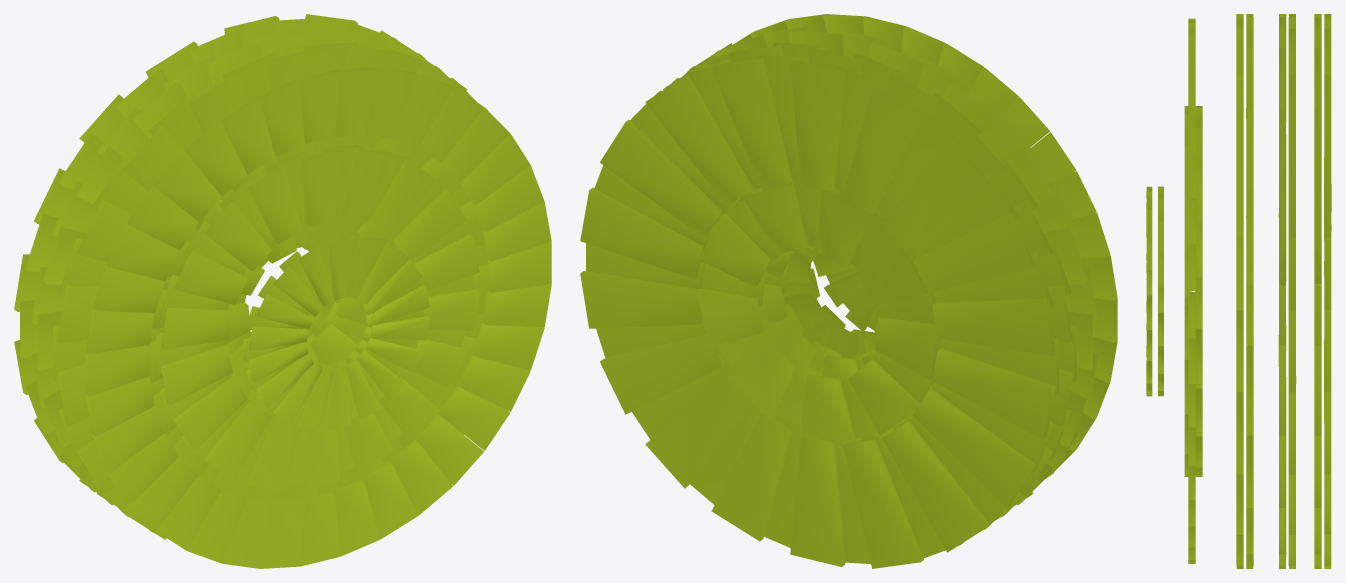
File: CSCMinus3D_V1.glb
3 renders of one model, left to right at view 1: azimuth 30°, elevation 25°; view 2: azimuth 150°, elevation 25°; view 3: azimuth 270°, elevation 25°, orthographic.
Visible parts, largest first — view 1: CSCMinus3D_V1; view 2: CSCMinus3D_V1; view 3: CSCMinus3D_V1.
Boxes of the visible parts, left/top/right/bottom form: CSCMinus3D_V1: left=14, top=14, right=551, bottom=568; CSCMinus3D_V1: left=580, top=14, right=1117, bottom=568; CSCMinus3D_V1: left=1146, top=14, right=1331, bottom=568.
Bounding box in the file's own units: 13.96 × 13.96 × 4.67.
